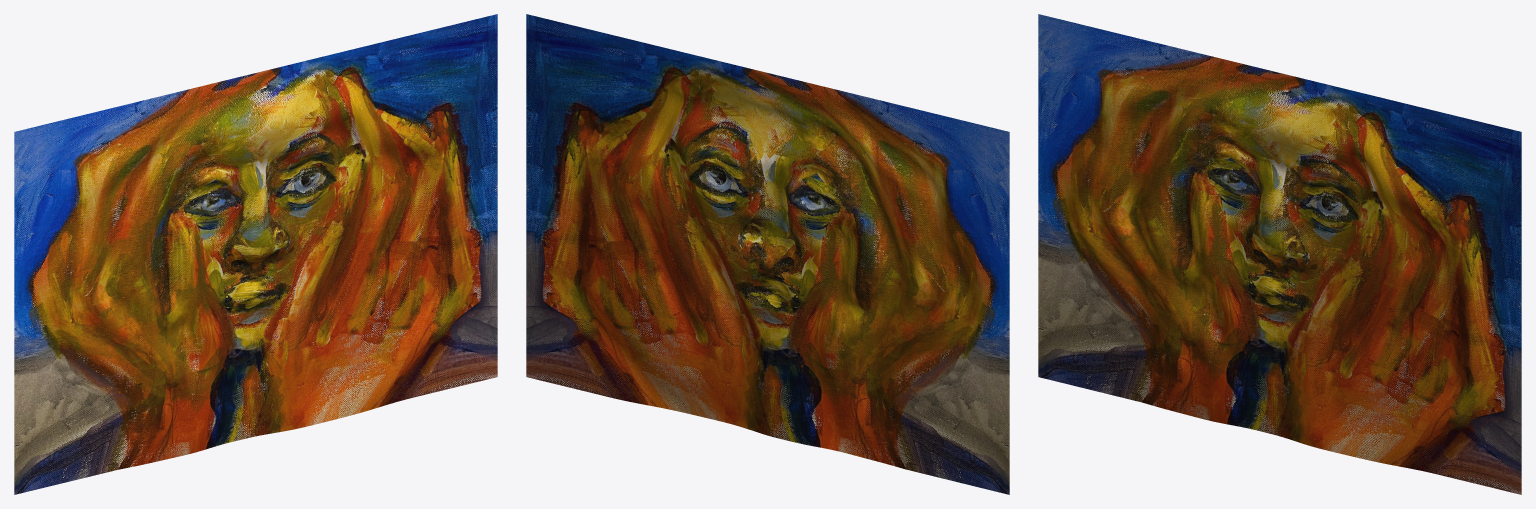
Rendered from head4Normal.gltf.
3 views of the same model, side by side, from view 1: azimuth 30°, elevation 25°; view 2: azimuth 150°, elevation 25°; view 3: azimuth 330°, elevation 25° (orthographic).
Parts seen in each view (by area): view 1: Grid; view 2: Grid; view 3: Grid.
Part boxes in pixels (left/top/right/bottom): Grid: left=14, top=14, right=497, bottom=494; Grid: left=526, top=14, right=1009, bottom=494; Grid: left=1038, top=14, right=1521, bottom=494.
Size of the model in its own units: 1.13 by 0.8112 by 0.0367.
1 material, 1 textured.
